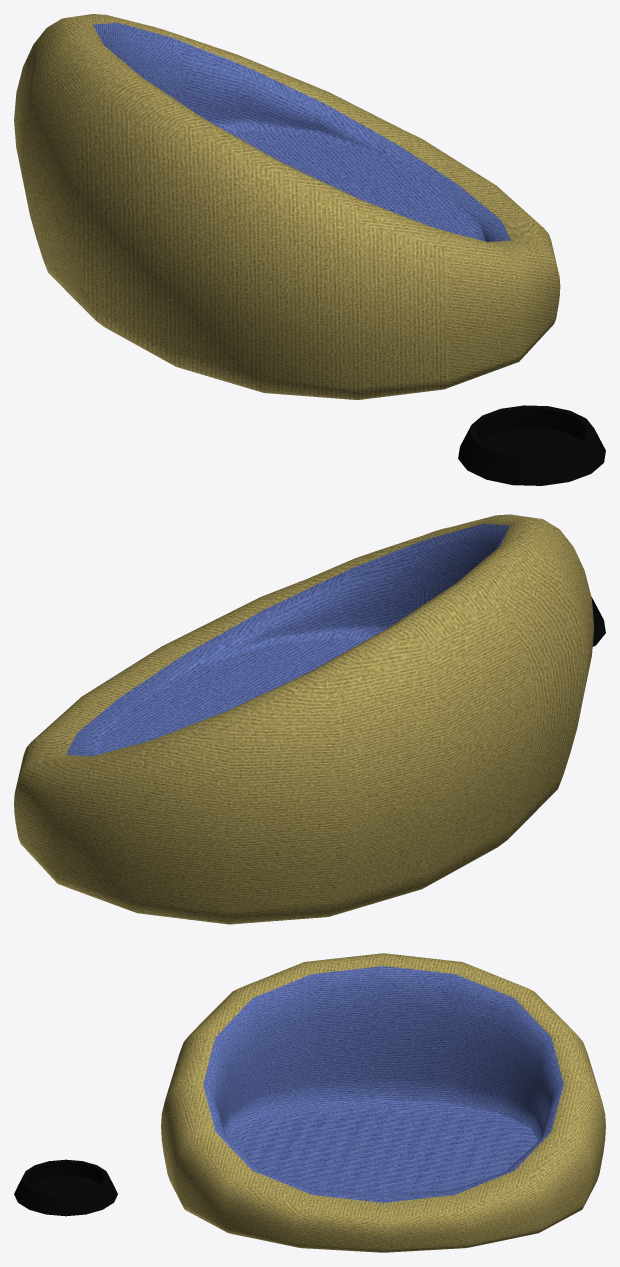
The model's file is Elec_cat bed.fbx.
3 views of the same model, one above another, from view 1: azimuth 30°, elevation 25°; view 2: azimuth 150°, elevation 25°; view 3: azimuth 270°, elevation 25° (orthographic). The views are drawn at different scales.
Parts seen in each view (by area): view 1: Cube, Cylinder; view 2: Cube; view 3: Cube, Cylinder.
Part boxes in pixels (x1,y1,x2,y2): Cube: (14,14,560,399); Cylinder: (458,405,605,485); Cube: (14,514,594,924); Cube: (161,953,605,1252); Cylinder: (14,1159,117,1216).
Bounding box in the file's own units: 330 × 188 × 561.
Materials: 2 (1 with a texture image).
